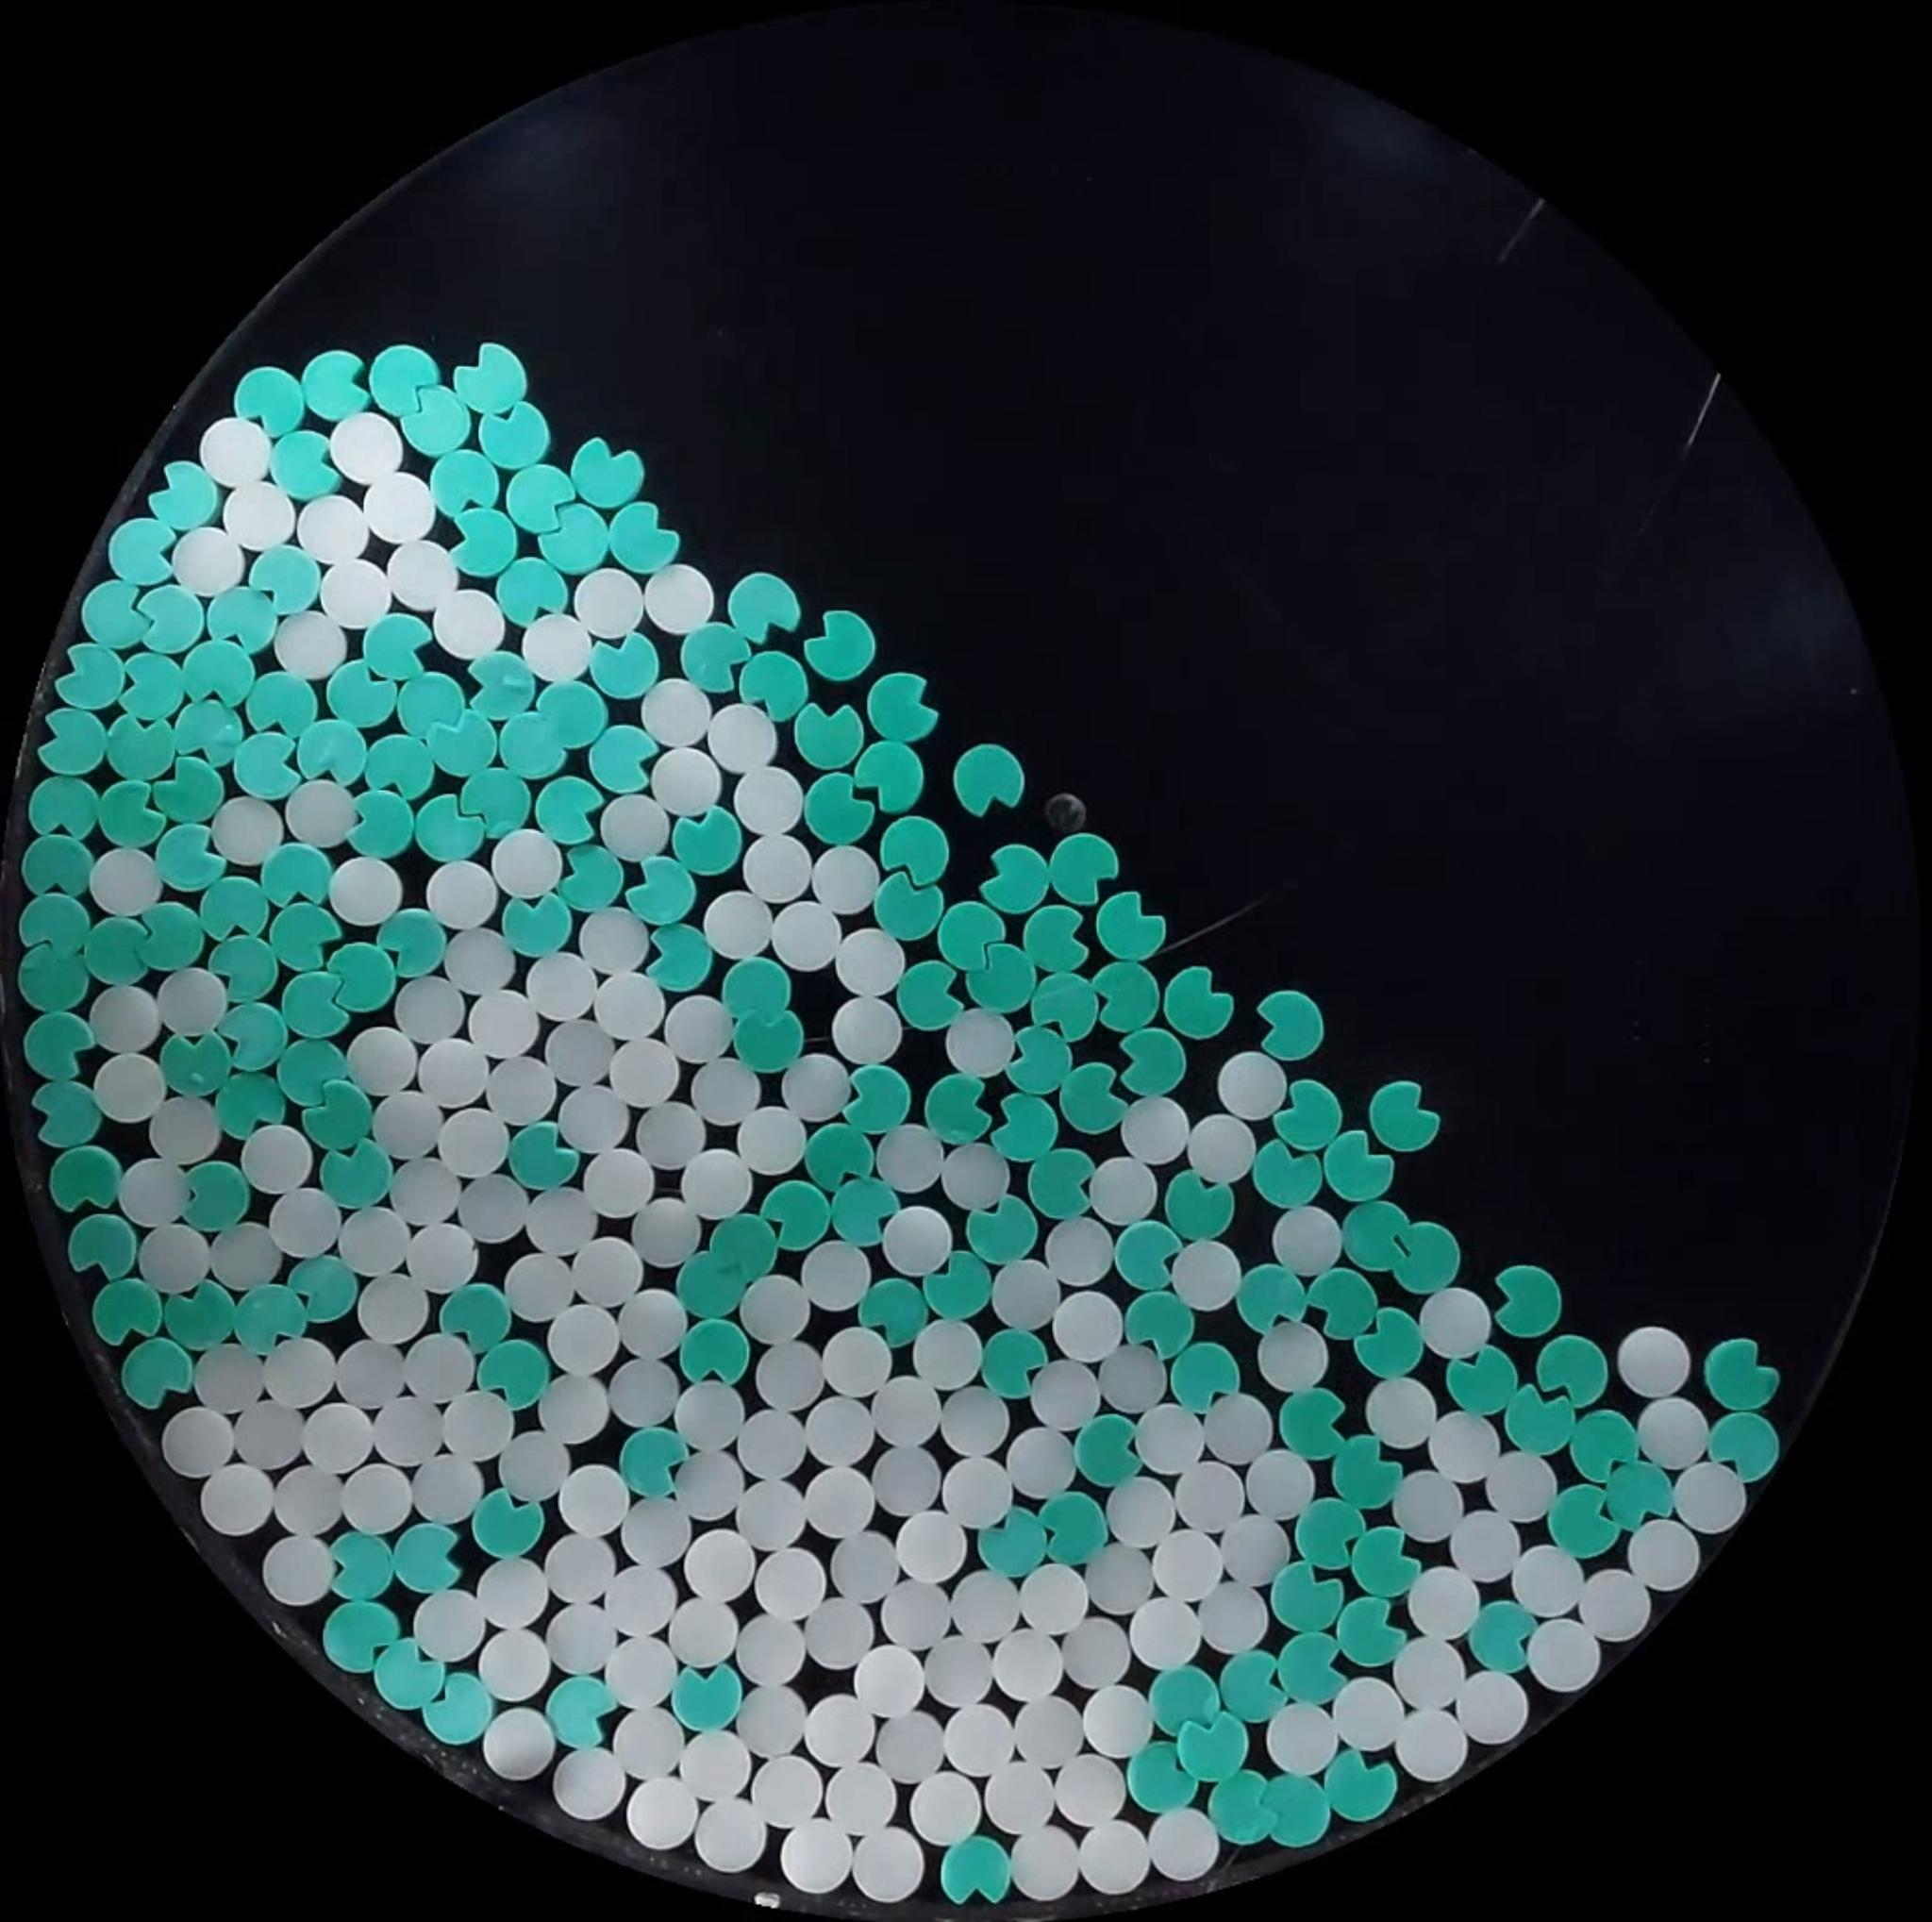disco-pmma: (611, 1478, 699, 1568), (924, 1628, 1008, 1716), (1001, 1691, 1093, 1772), (727, 1602, 813, 1686), (801, 1390, 889, 1473), (669, 1438, 748, 1530), (540, 1586, 623, 1672), (929, 1382, 1021, 1459), (549, 1461, 632, 1545), (428, 1378, 514, 1459), (600, 1561, 688, 1640), (978, 1751, 1066, 1830), (322, 1199, 417, 1271), (1126, 1392, 1207, 1477), (605, 1037, 692, 1116), (940, 1447, 1017, 1535), (1475, 1445, 1566, 1519), (755, 1341, 836, 1424), (1189, 1389, 1270, 1471), (867, 1368, 947, 1452), (403, 1443, 489, 1521), (1003, 1415, 1079, 1503), (667, 1596, 748, 1677), (933, 1704, 1015, 1781), (412, 1218, 491, 1297), (494, 1426, 574, 1505), (984, 1257, 1065, 1334), (1101, 1471, 1182, 1549), (614, 1287, 697, 1362), (876, 1575, 959, 1651), (1670, 1457, 1749, 1535), (480, 1706, 560, 1783), (482, 1053, 561, 1130), (266, 1461, 347, 1537), (545, 1531, 621, 1612), (871, 1436, 947, 1517), (1131, 1591, 1214, 1665), (475, 1558, 553, 1635), (676, 1728, 753, 1806), (681, 1528, 758, 1605), (1577, 1566, 1654, 1644), (1453, 1669, 1531, 1746), (551, 1744, 628, 1822), (544, 1302, 623, 1378), (1332, 1674, 1408, 1753), (197, 1461, 276, 1537), (795, 1690, 875, 1765), (426, 586, 507, 660), (1033, 1211, 1114, 1285), (808, 1463, 878, 1547), (1174, 1456, 1249, 1533), (1510, 1544, 1587, 1619), (301, 1401, 378, 1477), (1614, 1322, 1691, 1397), (853, 1644, 929, 1721), (160, 1403, 236, 1480), (1392, 1704, 1467, 1781), (1075, 1818, 1153, 1894), (625, 1774, 700, 1852), (779, 1818, 855, 1896), (457, 1169, 535, 1244), (727, 1478, 804, 1554), (748, 1750, 825, 1825), (1392, 1635, 1469, 1711), (558, 1082, 637, 1156), (604, 1633, 676, 1714), (392, 975, 475, 1045), (827, 1521, 897, 1603), (1079, 1540, 1163, 1609), (1404, 1565, 1480, 1640), (259, 1531, 334, 1607), (412, 1588, 487, 1663), (823, 1760, 899, 1836), (1149, 1526, 1225, 1602), (1628, 1515, 1703, 1591), (1526, 1616, 1601, 1691), (385, 540, 463, 614), (667, 991, 744, 1065), (1235, 1441, 1313, 1515), (114, 1160, 194, 1232), (194, 1338, 266, 1417), (234, 1405, 315, 1475), (734, 1672, 804, 1753), (521, 1185, 604, 1253), (338, 1459, 413, 1533), (355, 1271, 431, 1345), (1425, 1410, 1501, 1484), (137, 1221, 213, 1295), (1050, 1755, 1124, 1830), (894, 1510, 970, 1584), (465, 989, 540, 1063), (91, 1049, 167, 1123), (88, 982, 164, 1056), (1445, 1508, 1520, 1582), (1636, 1394, 1712, 1468), (1420, 1285, 1494, 1361), (693, 1797, 767, 1873), (852, 1825, 926, 1901), (262, 1336, 340, 1408), (333, 1334, 405, 1412), (412, 1037, 491, 1107), (399, 1329, 479, 1399), (677, 1146, 751, 1220), (820, 1325, 894, 1399), (743, 829, 816, 903), (443, 926, 517, 1000), (1170, 1237, 1244, 1311), (568, 1234, 644, 1306), (155, 965, 231, 1037), (267, 1185, 343, 1257), (171, 525, 246, 597), (524, 950, 600, 1023), (327, 854, 403, 926), (220, 479, 296, 551), (329, 412, 405, 484), (933, 1141, 1010, 1211), (491, 1635, 568, 1706), (1077, 1679, 1147, 1757), (591, 970, 663, 1044), (318, 556, 392, 628), (1265, 1700, 1337, 1774), (732, 764, 804, 838), (1052, 1288, 1124, 1362), (362, 470, 436, 542), (910, 1771, 982, 1845), (199, 415, 273, 488), (1079, 1822, 1151, 1896), (579, 905, 653, 977), (1274, 1200, 1348, 1273), (340, 1021, 415, 1091), (609, 1357, 684, 1427), (802, 1600, 878, 1670), (1198, 1581, 1276, 1649), (1098, 1334, 1165, 1413), (436, 1105, 509, 1177), (706, 702, 778, 774), (575, 569, 648, 641), (426, 857, 498, 929), (1147, 1808, 1219, 1880), (148, 1095, 222, 1165), (88, 847, 162, 917), (882, 1204, 955, 1274), (285, 778, 359, 848), (1010, 1825, 1080, 1899), (737, 1412, 811, 1482), (867, 1706, 938, 1779), (723, 1104, 799, 1172), (618, 1188, 695, 1255), (1121, 1098, 1198, 1165), (755, 1544, 822, 1621), (1364, 1378, 1441, 1445), (811, 843, 882, 915), (297, 493, 370, 563), (801, 1239, 873, 1309), (1186, 1112, 1256, 1185), (832, 928, 904, 998), (521, 613, 593, 683), (771, 899, 843, 970), (702, 889, 774, 959), (491, 827, 563, 898), (644, 563, 716, 634), (211, 796, 283, 866), (829, 993, 899, 1065), (648, 746, 721, 815), (273, 609, 347, 678), (216, 1220, 283, 1295), (370, 1396, 445, 1463), (1218, 1051, 1288, 1121), (1258, 1318, 1328, 1389), (380, 1089, 450, 1160), (611, 1706, 681, 1776), (1216, 1510, 1286, 1581), (598, 794, 670, 862), (943, 1009, 1015, 1077), (1399, 1477, 1471, 1545), (642, 678, 713, 746), (542, 1375, 612, 1443), (743, 1274, 813, 1343), (544, 1021, 616, 1088), (1031, 1355, 1098, 1427), (1022, 1563, 1094, 1630), (954, 1563, 1021, 1635), (248, 1121, 313, 1195), (1089, 1167, 1163, 1232), (509, 1253, 588, 1313), (873, 1125, 941, 1193), (992, 1632, 1065, 1697), (586, 1146, 653, 1214), (1063, 1619, 1130, 1688), (692, 1058, 760, 1123), (398, 1158, 463, 1227), (917, 1320, 982, 1387), (669, 1390, 743, 1449), (783, 1054, 846, 1119), (637, 1100, 699, 1167)
